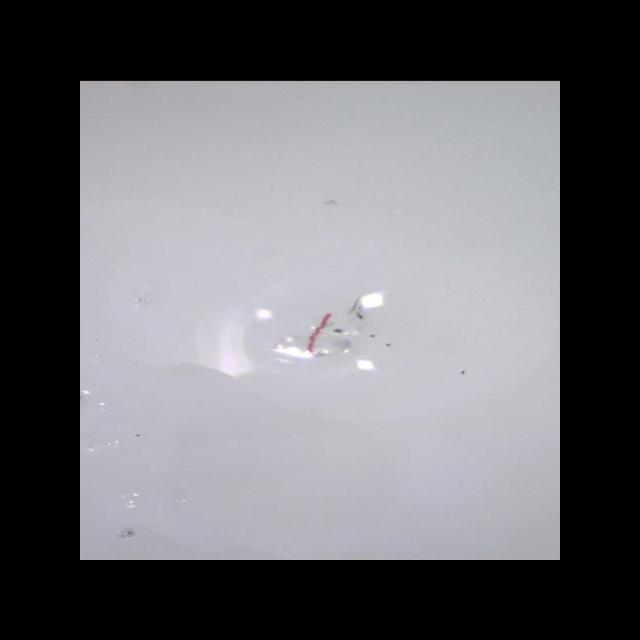Fibre: (270, 291, 390, 371)
